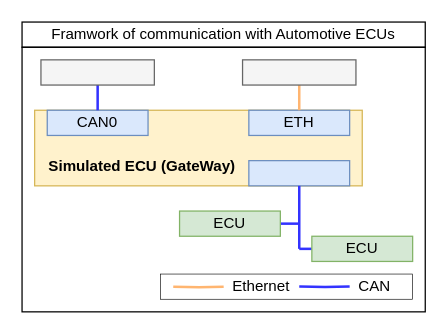
Some shapes in this 447 by 334 pixel diagram are drawn without their labels. Here are the shapes that lost their labels. From the top down, the box of each, then its label:
(40, 59, 154, 85): DoCan Tester
(241, 59, 356, 85): DoIP Tester
(248, 159, 350, 186): CAN1
